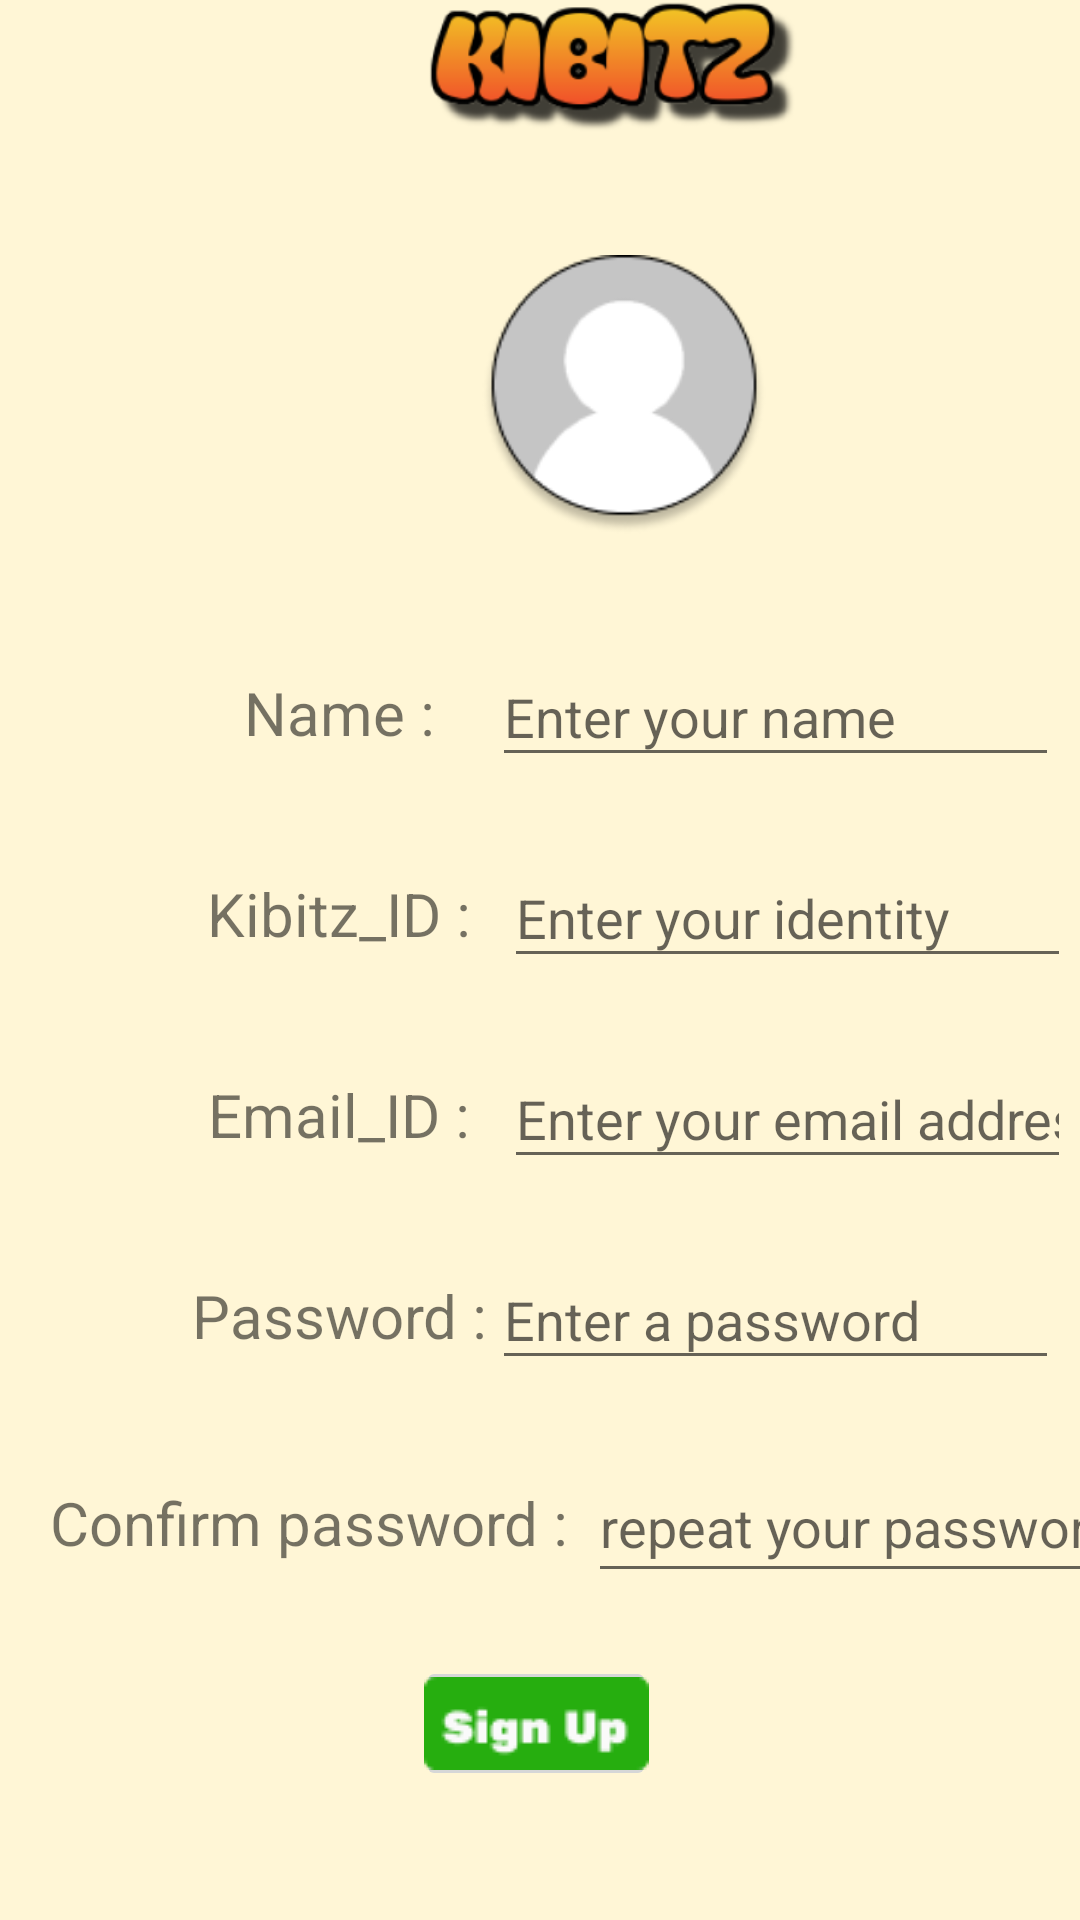

Screen size 1080w x 1920h. Icon name, then its box in pixels as (x1, y1, x2, y2):
profile pic: (490, 255, 758, 526)
